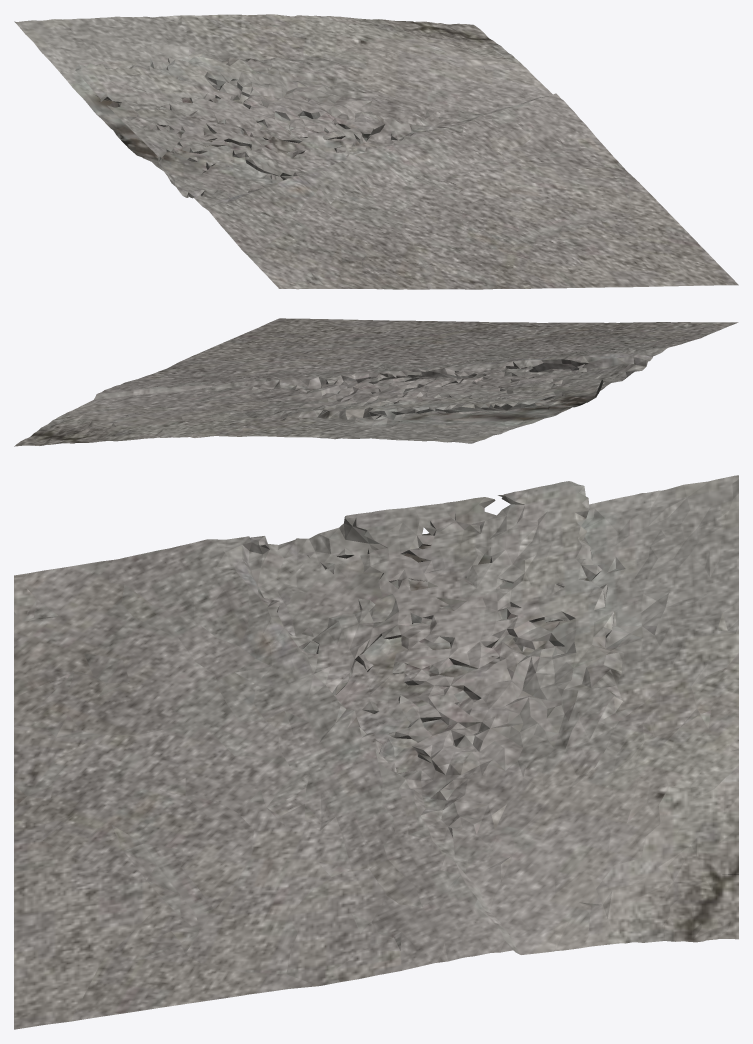
The picture shows the model from 3 angles, top to bottom: view 1: azimuth 30°, elevation 25°; view 2: azimuth 150°, elevation 25°; view 3: azimuth 270°, elevation 25°; orthographic projection. The views are drawn at different scales.
Bounding box in the file's own units: 1.67 × 0.6324 × 1.67.
3 materials, 3 textured.
